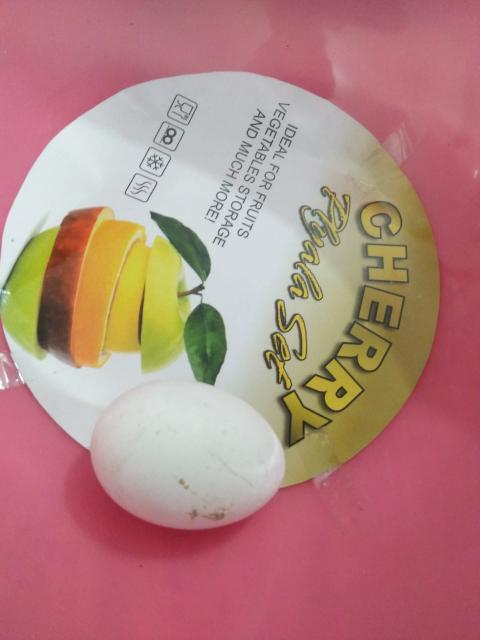Sano: (88, 377, 286, 531)
